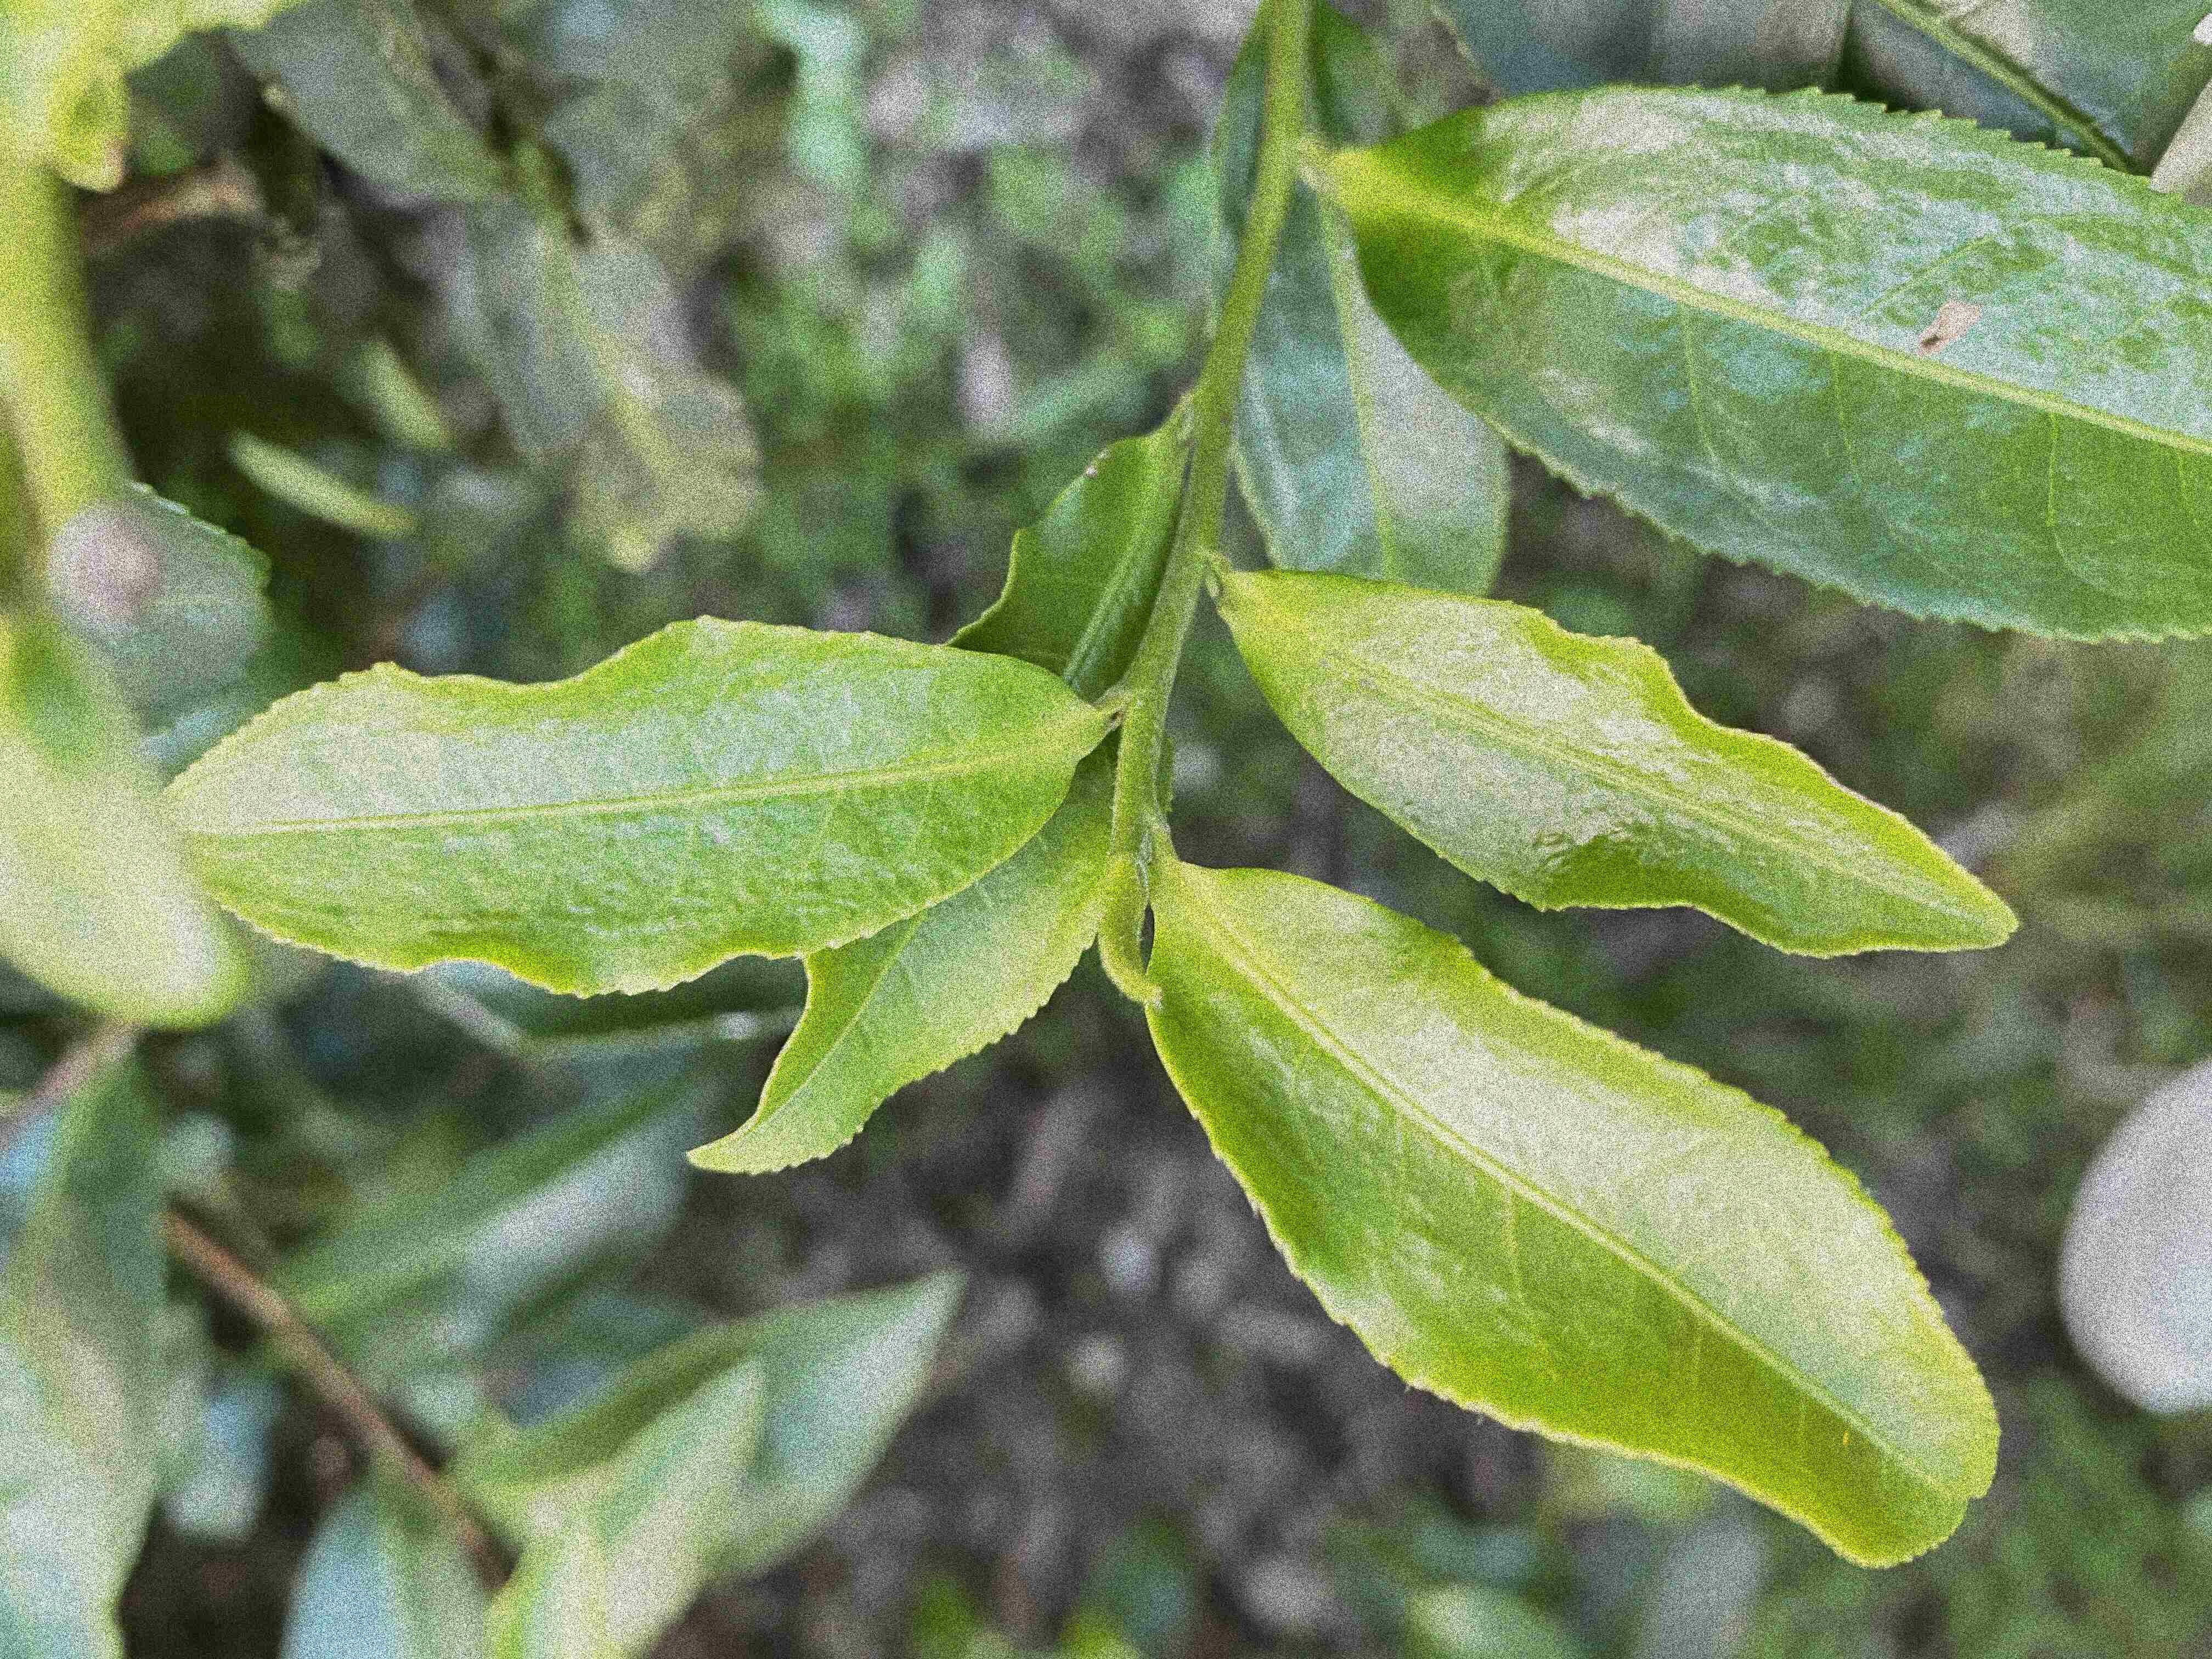healthy: (1144, 852, 2008, 1574), (157, 615, 1089, 1006), (1214, 565, 2022, 965)
tanju_low: (1343, 77, 2212, 650)
